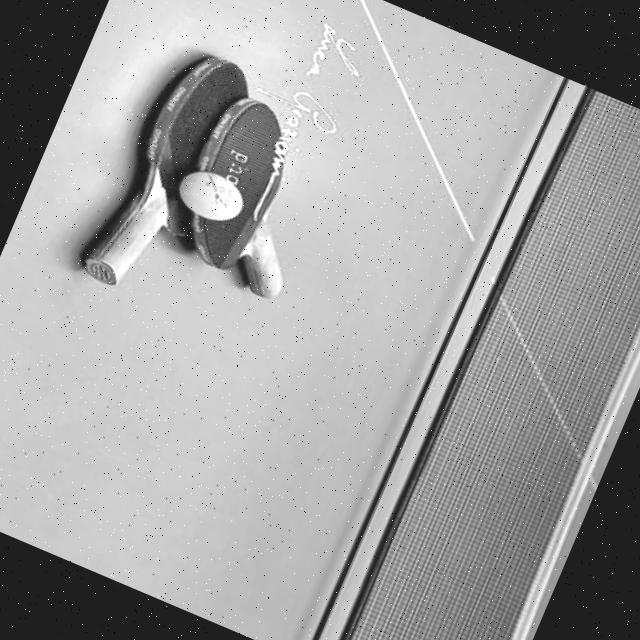ping-pong-ball: (171, 160, 252, 230)
